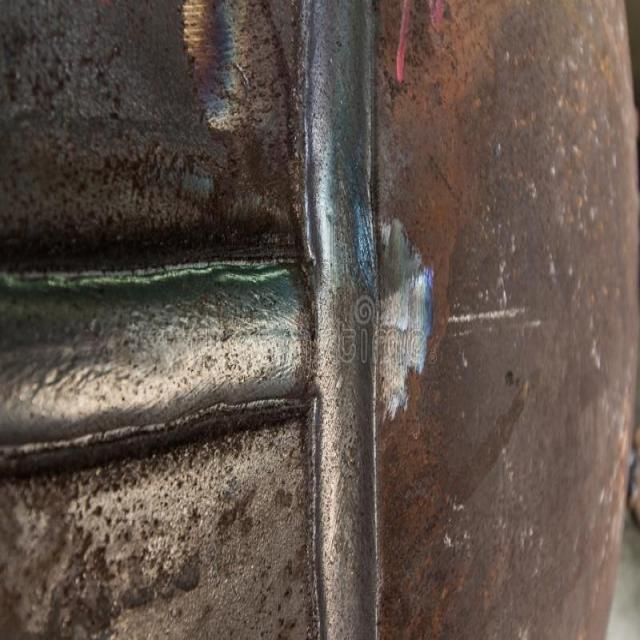Good Welding: (301, 0, 380, 639), (1, 268, 310, 421)
